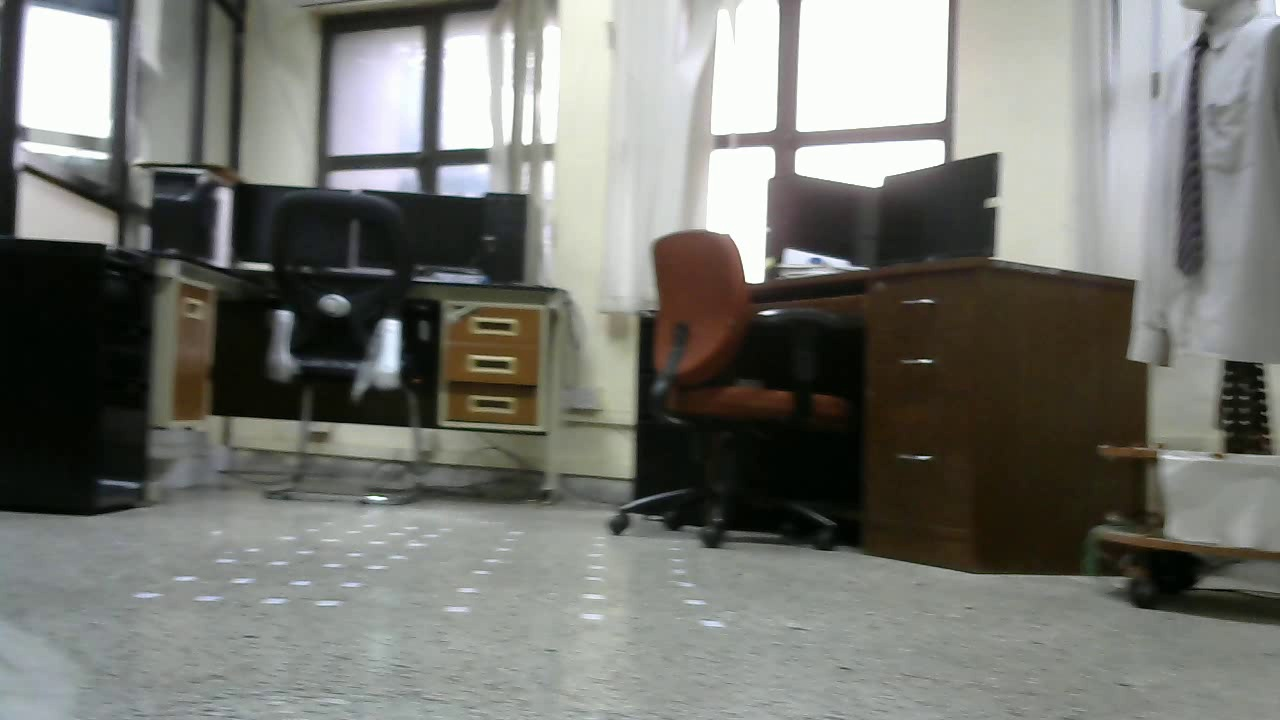chair: (606, 229, 840, 551), (258, 191, 440, 518)
